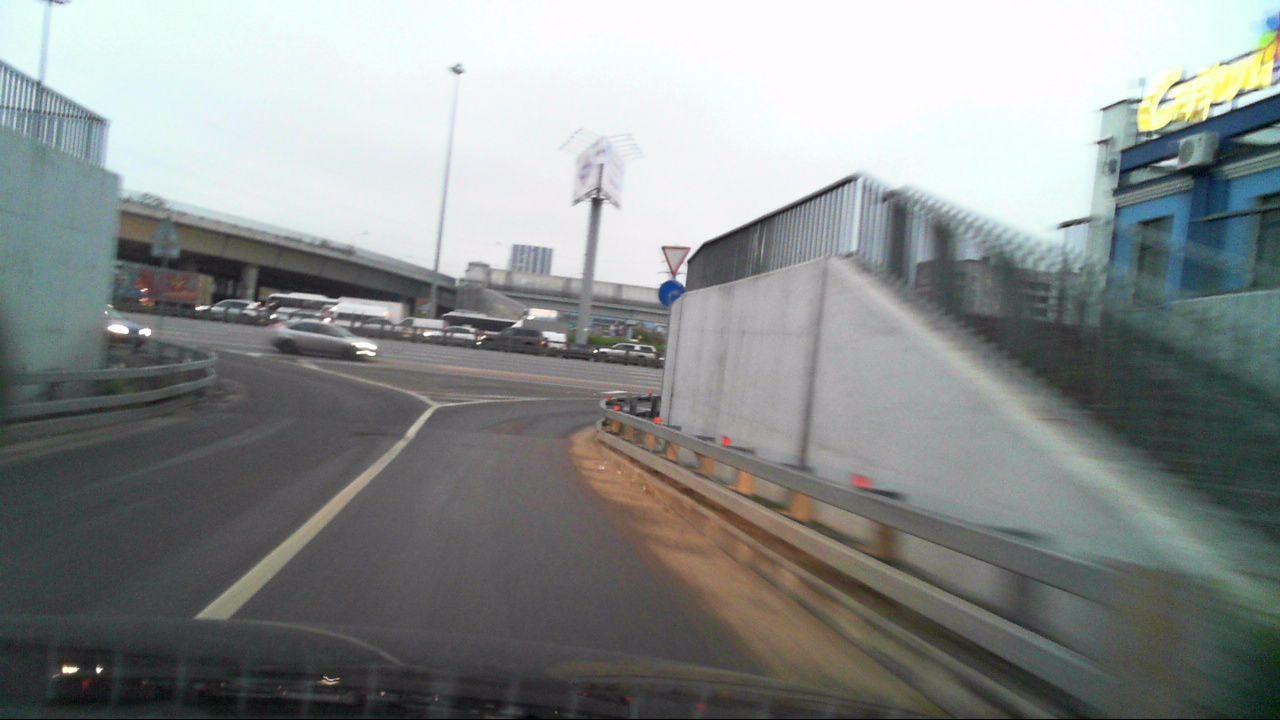road_sign: (660, 243, 694, 278)
